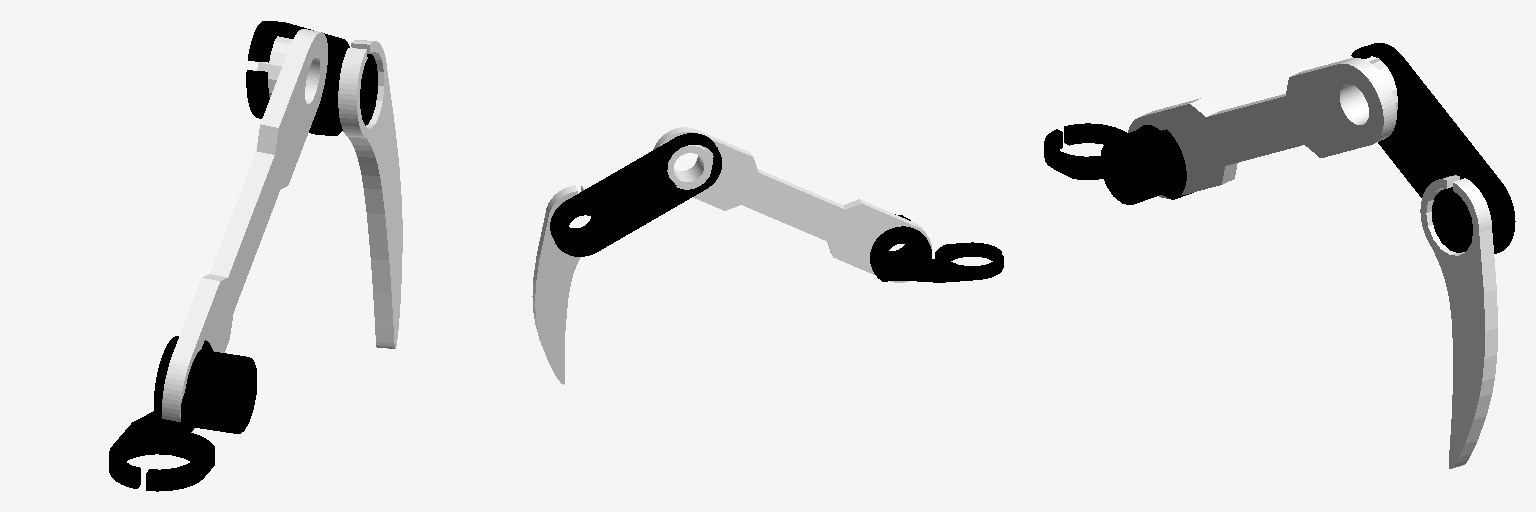
robot.urdf — spider:
<?xml version="1.0"?>
<robot name="spider">

  <material name="blue">
    <color rgba="0 0 0.8 1"/>
  </material>
  <material name="black">
    <color rgba="0 0 0 1"/>
  </material>
  <material name="white">
    <color rgba="1 1 1 1"/>
  </material>

  <link name="base_link">
    <visual>
      <origin rpy="0.0 0 0" xyz="0 0 1"/>
      <geometry>
        <mesh filename="package://udm_spider/mesh/torso.stl" scale="0.05 0.05 0.05"/>
      </geometry>
      <material name="white"/>
    </visual>
  </link>

  <link name="root_link_1">
    <visual>
      <origin rpy="0 0 0.7" xyz="0.30 0.2 0.0"/>
      <geometry>
        <mesh filename="package://udm_spider/mesh/rootlink.stl" scale="0.05 0.05 0.05"/>
      </geometry>
      <material name="black"/>
    </visual>
  </link>

  <joint name="root_link_1_joint" type="revolute">
    <axis xyz="0 0 1"/>
    <limit effort="1000.0" lower="0.0" upper="0.5" velocity="0.5"/>
    <parent link="base_link"/>
    <child link="root_link_1"/>
    <origin xyz="0.7 1.0 0.85"/>
  </joint>

  <link name="long_link_1">
    <visual>
      <origin rpy="-1.5 -0.5 0.7" xyz="0.2 0.4 0.2"/>
      <geometry>
        <mesh filename="package://udm_spider/mesh/long-link.stl" scale="0.05 0.05 0.05"/>
      </geometry>
      <material name="white"/>
    </visual>
  </link>

  <joint name="long_link_1_joint" type="revolute">
    <axis xyz="-1 0 0"/>
    <limit effort="1000.0" lower="0.0" upper="1" velocity="0.5"/>
    <parent link="root_link_1"/>
    <child link="long_link_1"/>
    <origin xyz="0.50 0.15 0.25"/>
  </joint>

  <link name="link_1">
    <visual>
      <origin   xyz="0.5 0 0.02"/>
      <geometry>
        <mesh filename="package://udm_spider/mesh/link1.stl" scale="0.05 0.05 0.05"/>
      </geometry>
      <material name="black"/>
    </visual>
  </link>

  <joint name="link_1_joint" type="revolute">
    <axis xyz="0 0 1"/>
    <limit effort="1000.0" lower="0.0" upper="1" velocity="0.5"/>
    <parent link="long_link_1"/>
    <child link="link_1"/>
     <origin rpy="1.5 0.5 0.7" xyz="1 1.45 0.95"/>
  </joint>

  <link name="leaf_link_1">
    <visual>
      <origin rpy="0 0 -1" xyz="0.27 -0.42 0"/>
      <geometry>
        <mesh filename="package://udm_spider/mesh/leaf-link.stl" scale="0.05 0.05 0.05"/>
      </geometry>
      <material name="white"/>
    </visual>
  </link>

  <joint name="leaf_link_1_joint" type="revolute">
    <axis xyz="0 0 1"/>
    <limit effort="1000.0" lower="-1" upper="1" velocity="0.5"/>
    <parent link="link_1"/>
    <child link="leaf_link_1"/>
    <origin xyz="1 0 0.2"/>
  </joint>



  
</robot>

--- Facts derived from the render (not from the file) ---
The picture shows the robot from 3 angles, left to right: view 1: azimuth 30°, elevation 25°; view 2: azimuth 150°, elevation 25°; view 3: azimuth 270°, elevation 25°; orthographic projection.
Model spider with 5 links and 4 joints (4 revolute), rooted at base_link, posed all joints at 0.
Links seen in each view (by area): view 1: long_link_1, root_link_1, leaf_link_1, link_1; view 2: long_link_1, link_1, root_link_1, leaf_link_1; view 3: long_link_1, link_1, leaf_link_1, root_link_1.
Boxes of the visible links, x1,y1,x2,y2 form: long_link_1: (162,29,327,432); root_link_1: (109,336,256,491); leaf_link_1: (338,40,402,348); link_1: (246,21,377,135); long_link_1: (653,127,931,282); link_1: (550,133,721,256); root_link_1: (870,214,1003,282); leaf_link_1: (532,185,588,384); long_link_1: (1128,58,1397,198); link_1: (1351,43,1515,253); leaf_link_1: (1420,175,1497,468); root_link_1: (1044,123,1193,204).
Size in the robot's own frame: 2.99 by 2.69 by 2.22 metres.
Meshes: 5 distinct files referenced, 4 mesh visuals loaded (4 ASCII STL); not drawn: 1 (reference not matched to a file when rendering).